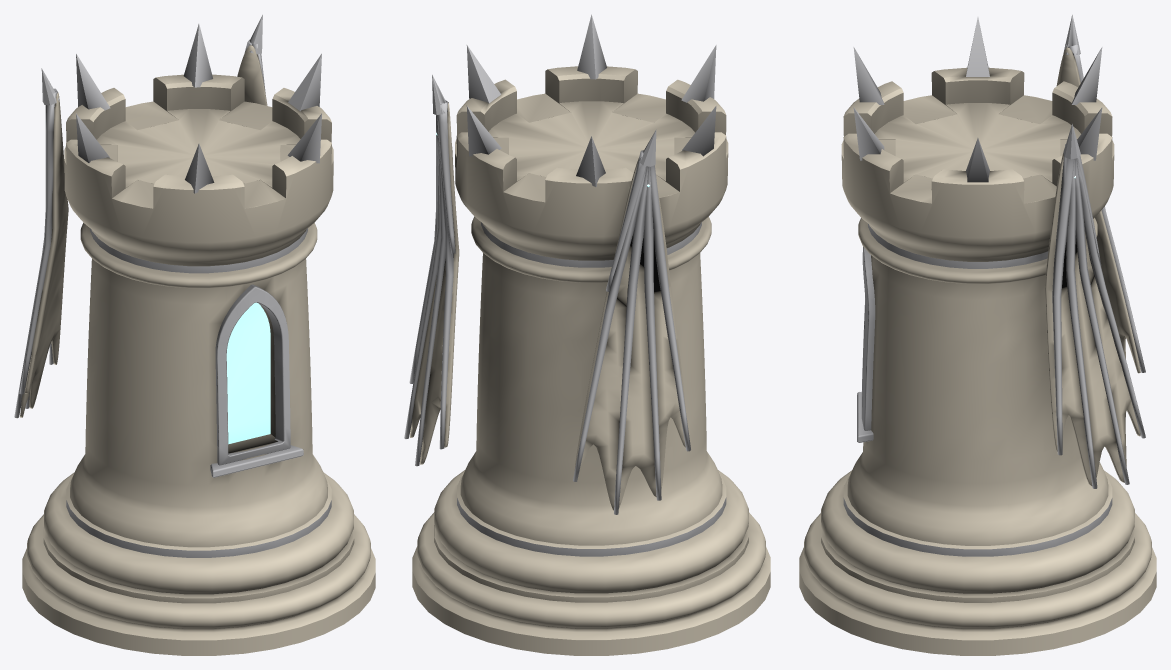
Rendered from dragon_king.glb.
3 renders of one model, left to right at view 1: azimuth 30°, elevation 25°; view 2: azimuth 150°, elevation 25°; view 3: azimuth 270°, elevation 25°, orthographic.
Parts seen in each view (by area): view 1: dragon_king; view 2: dragon_king; view 3: dragon_king.
Boxes of the visible parts, left/top/right/bottom form: dragon_king: left=14, top=14, right=375, bottom=655; dragon_king: left=404, top=14, right=770, bottom=655; dragon_king: left=799, top=14, right=1156, bottom=655.
Size of the model in its own units: 0.7372 by 1.16 by 0.7372.
